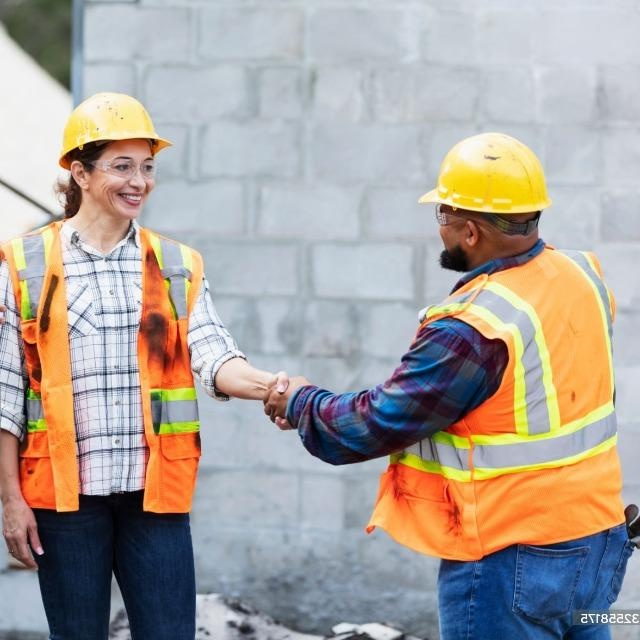Con_Casco: (417, 131, 551, 269), (57, 92, 172, 216)
Con_Chaleco: (401, 257, 623, 545), (0, 217, 202, 518)
